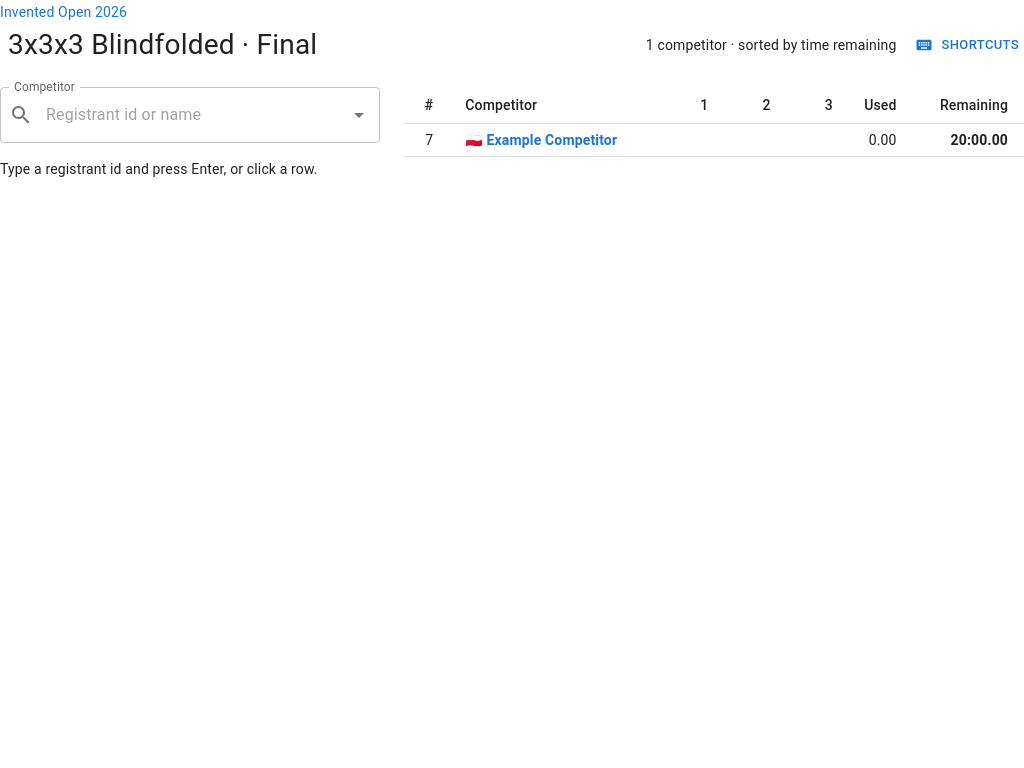
local competition flow › lists the shortcuts when ? is pressed outside a field
Type keys "?"
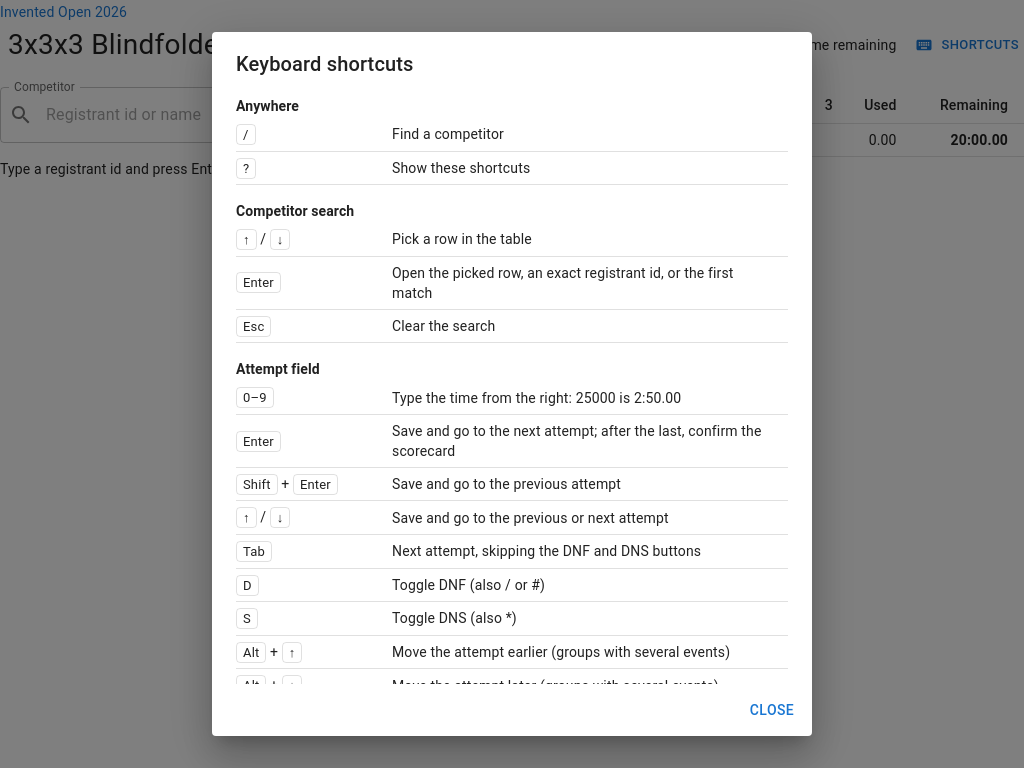
Expected: the dialog "Keyboard shortcuts" shows "DNS", x1=392 y1=543 x2=701 y2=559
Click the button "Close".
click(772, 710)  # box x1=740 y1=692 x2=804 y2=728
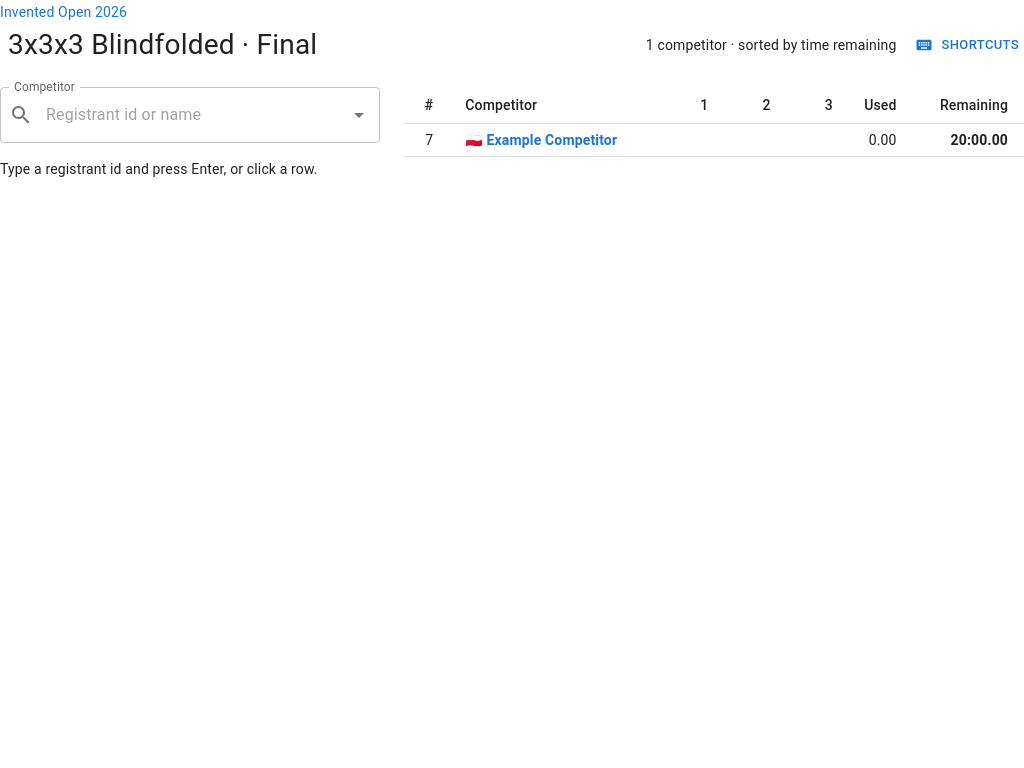
Expected: the heading "Keyboard shortcuts" is gone
